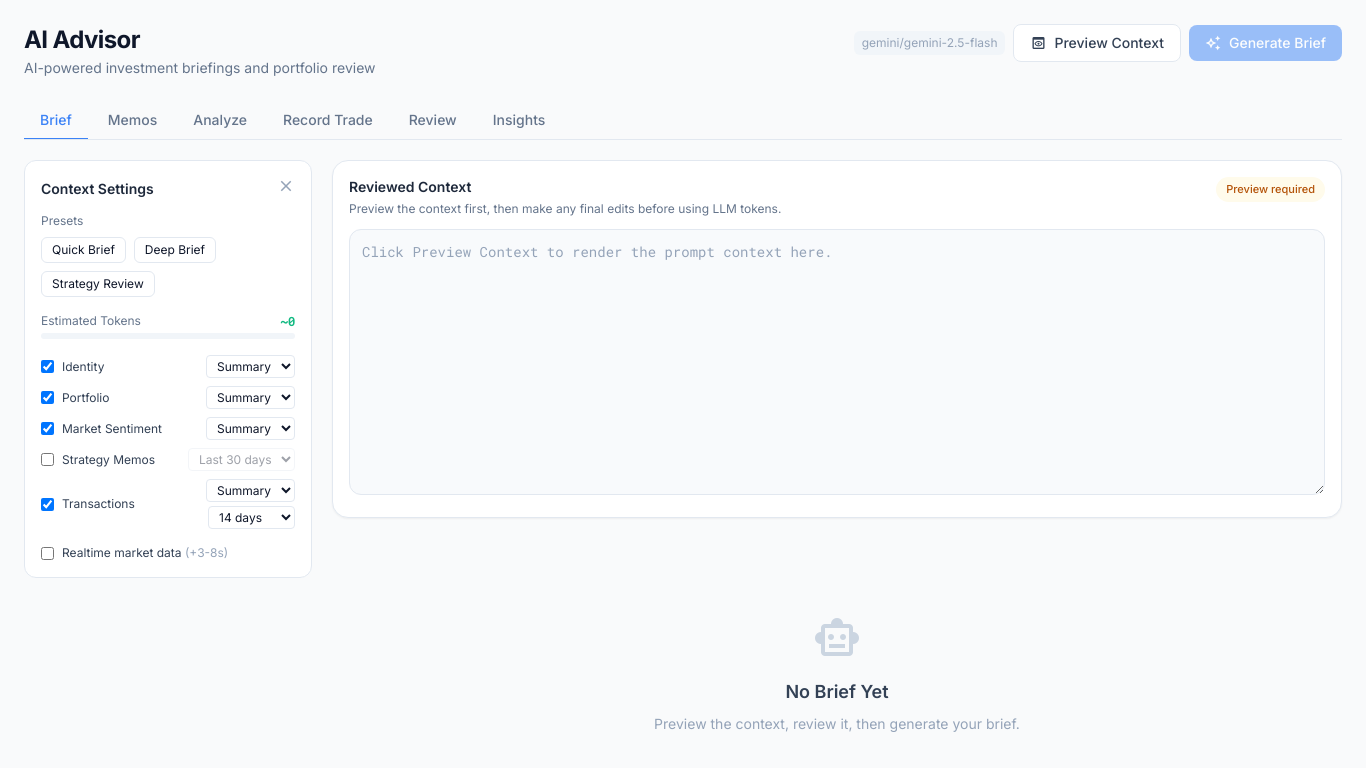
Test: AI Advisor debug logs › renders insights on the insights tab without loading a linked review debug panel
Click the button "Insights" at (519, 121), box [477,102,561,140]
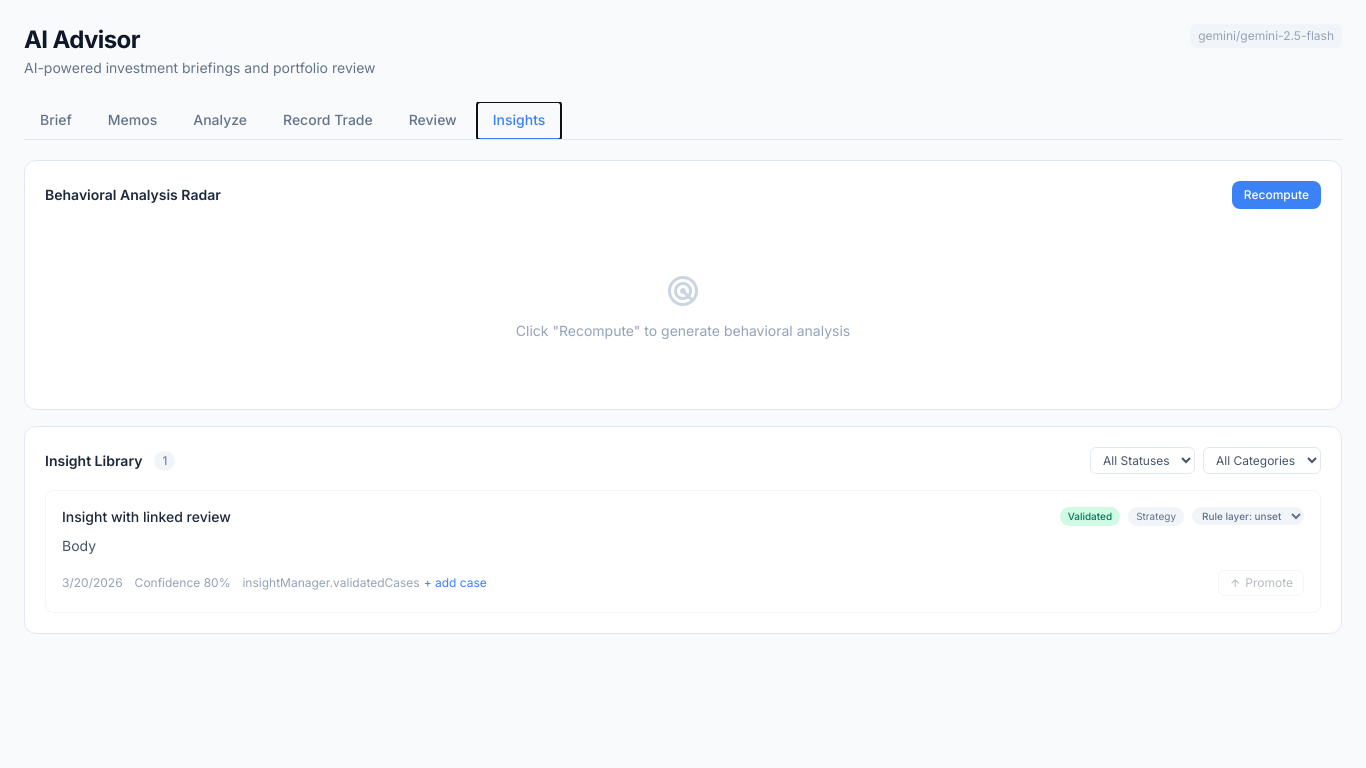
expect the heading "Insight Library" is shown: met, box [45,450,142,470]
expect the text "Insight with linked review" is shown: met, box [62,508,231,525]
expect the text "Body" is shown: met, box [62,537,96,554]
